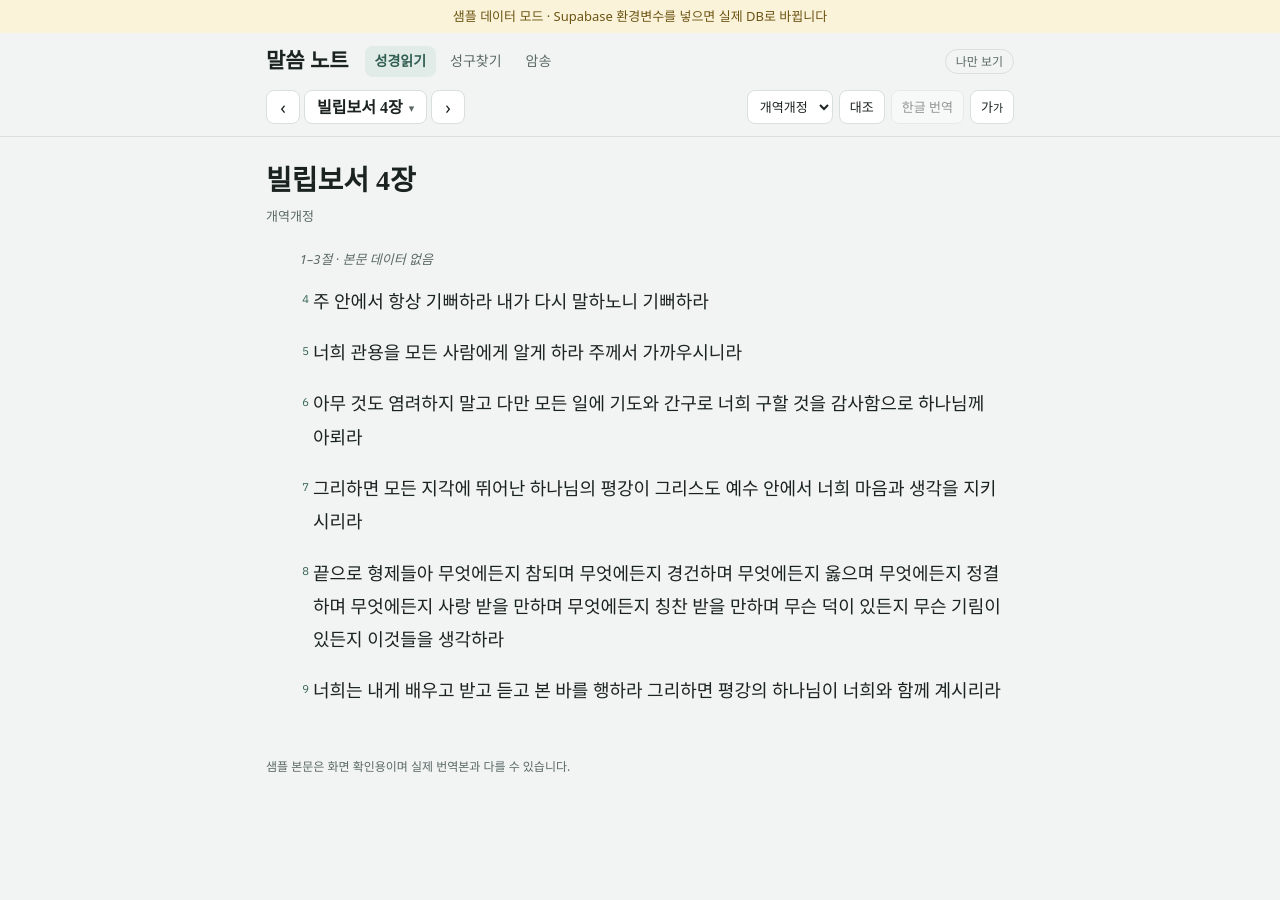
Scenario: app (sample mode) › opens the reader on Philippians 4 and walks to the next chapter
The width and height of the screenshot is (1280, 900).
expect the heading "빌립보서 4장" is shown: met, box [266,165,416,196]
expect the text "아무 것도 염려하지 말고 다만 모든 일에 기도와 간구로 너희 구할 것을 감사함으로 하나님께 아뢰라" is shown: met, box [313,388,1004,455]
What coordinates should you click on to do the following:
click the button named "다음 장"
I would click on:
 (448, 107)
Its box is [431,90,465,124].
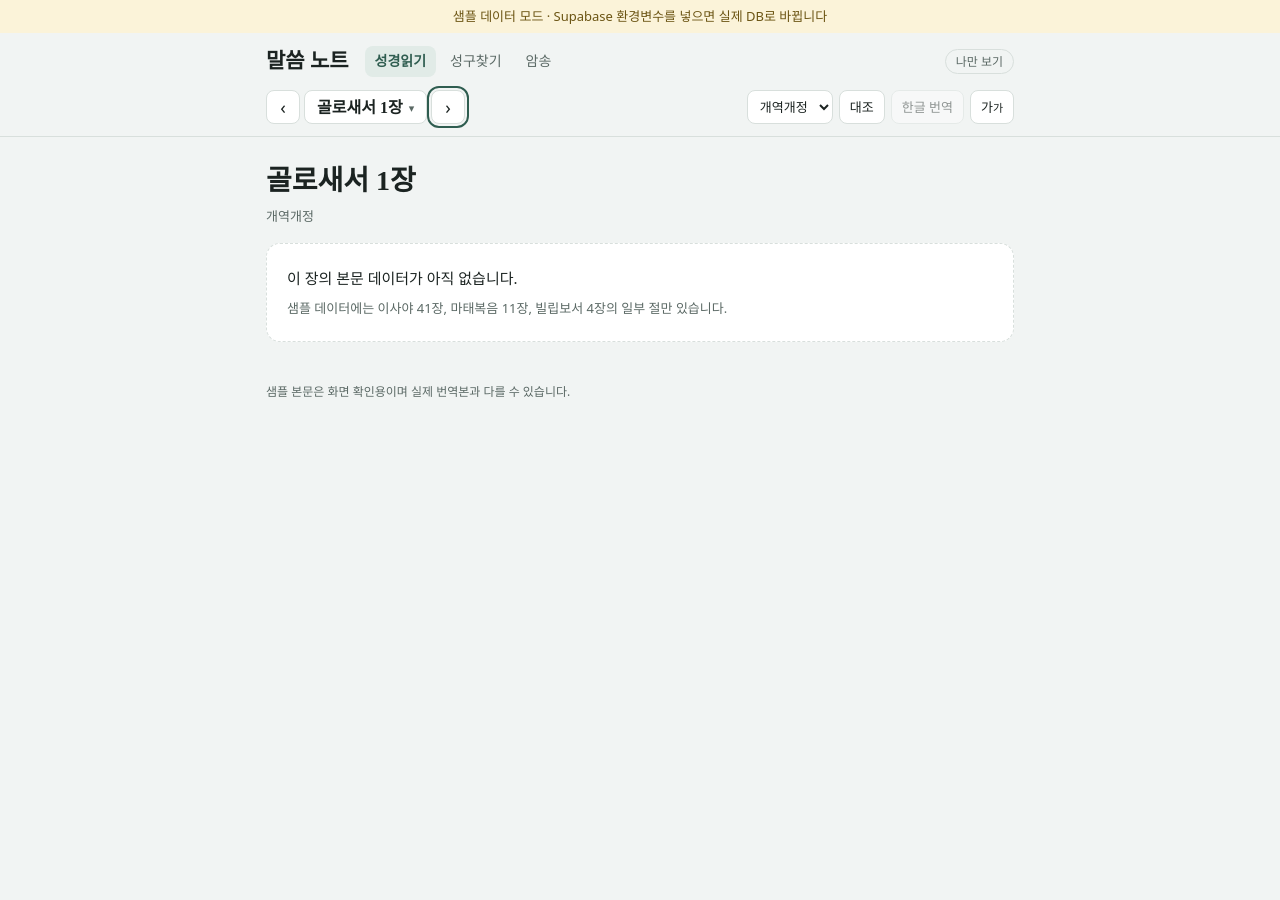
expect the heading "골로새서 1장" is shown: met, box [266,165,416,196]
expect the text "이 장의 본문 데이터가 아직 없습니다." is shown: met, box [287,266,518,290]
